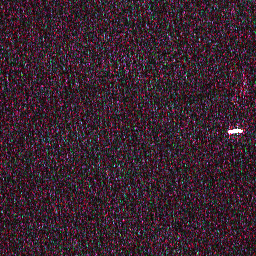ship: (226, 126, 245, 135)
